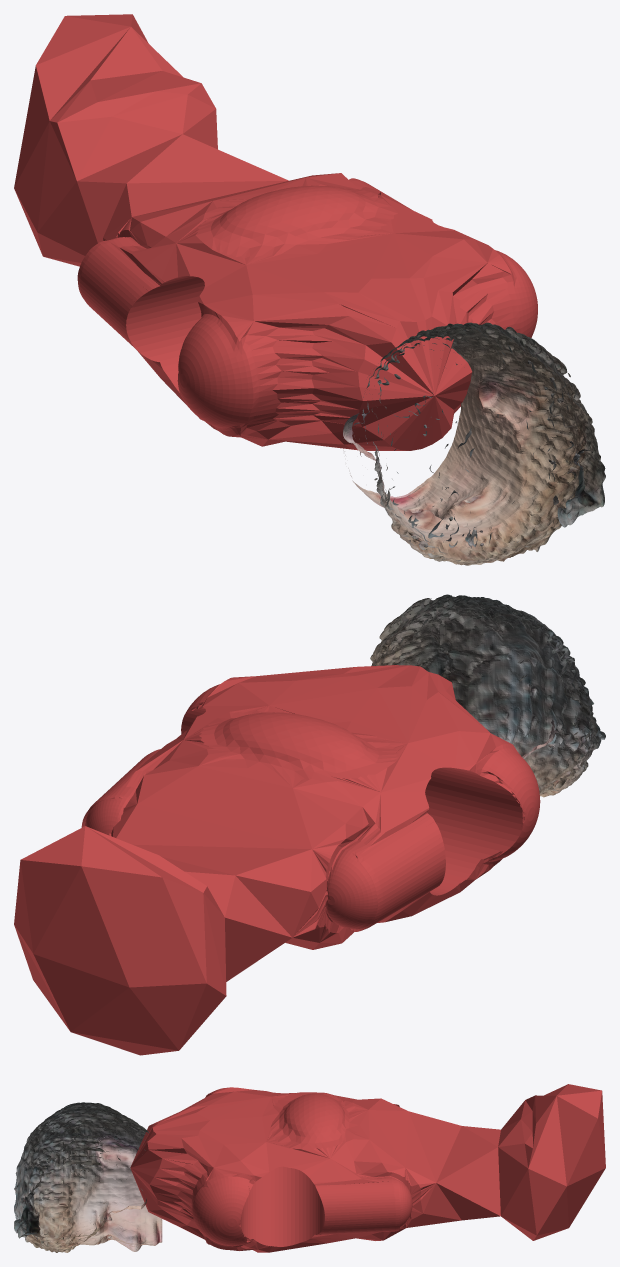
Rendered from jugador_metegol_prueba.glb.
3 renders of one model, top to bottom at view 1: azimuth 30°, elevation 25°; view 2: azimuth 150°, elevation 25°; view 3: azimuth 270°, elevation 25°, orthographic. The views are drawn at different scales.
Parts seen in each view (by area): view 1: world; view 2: world; view 3: world.
Part boxes in pixels (x1,y1,x2,y2): world: (14, 14, 605, 565); world: (14, 594, 605, 1055); world: (14, 1084, 605, 1252).
Size of the model in its own units: 40.99 by 29.05 by 93.35.
